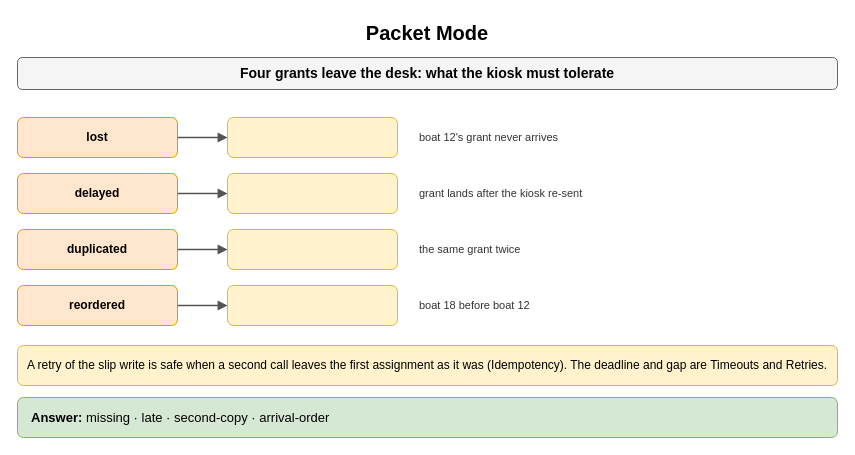
Image size: 855x455. Some labels were removed from this diagram. Here are the shapes that lost their labels. From the top down, the centre of each, then its label:
At point 312,137: "missing".
At point 312,193: "late".
At point 312,249: "second-copy".
At point 312,305: "arrival-order".
